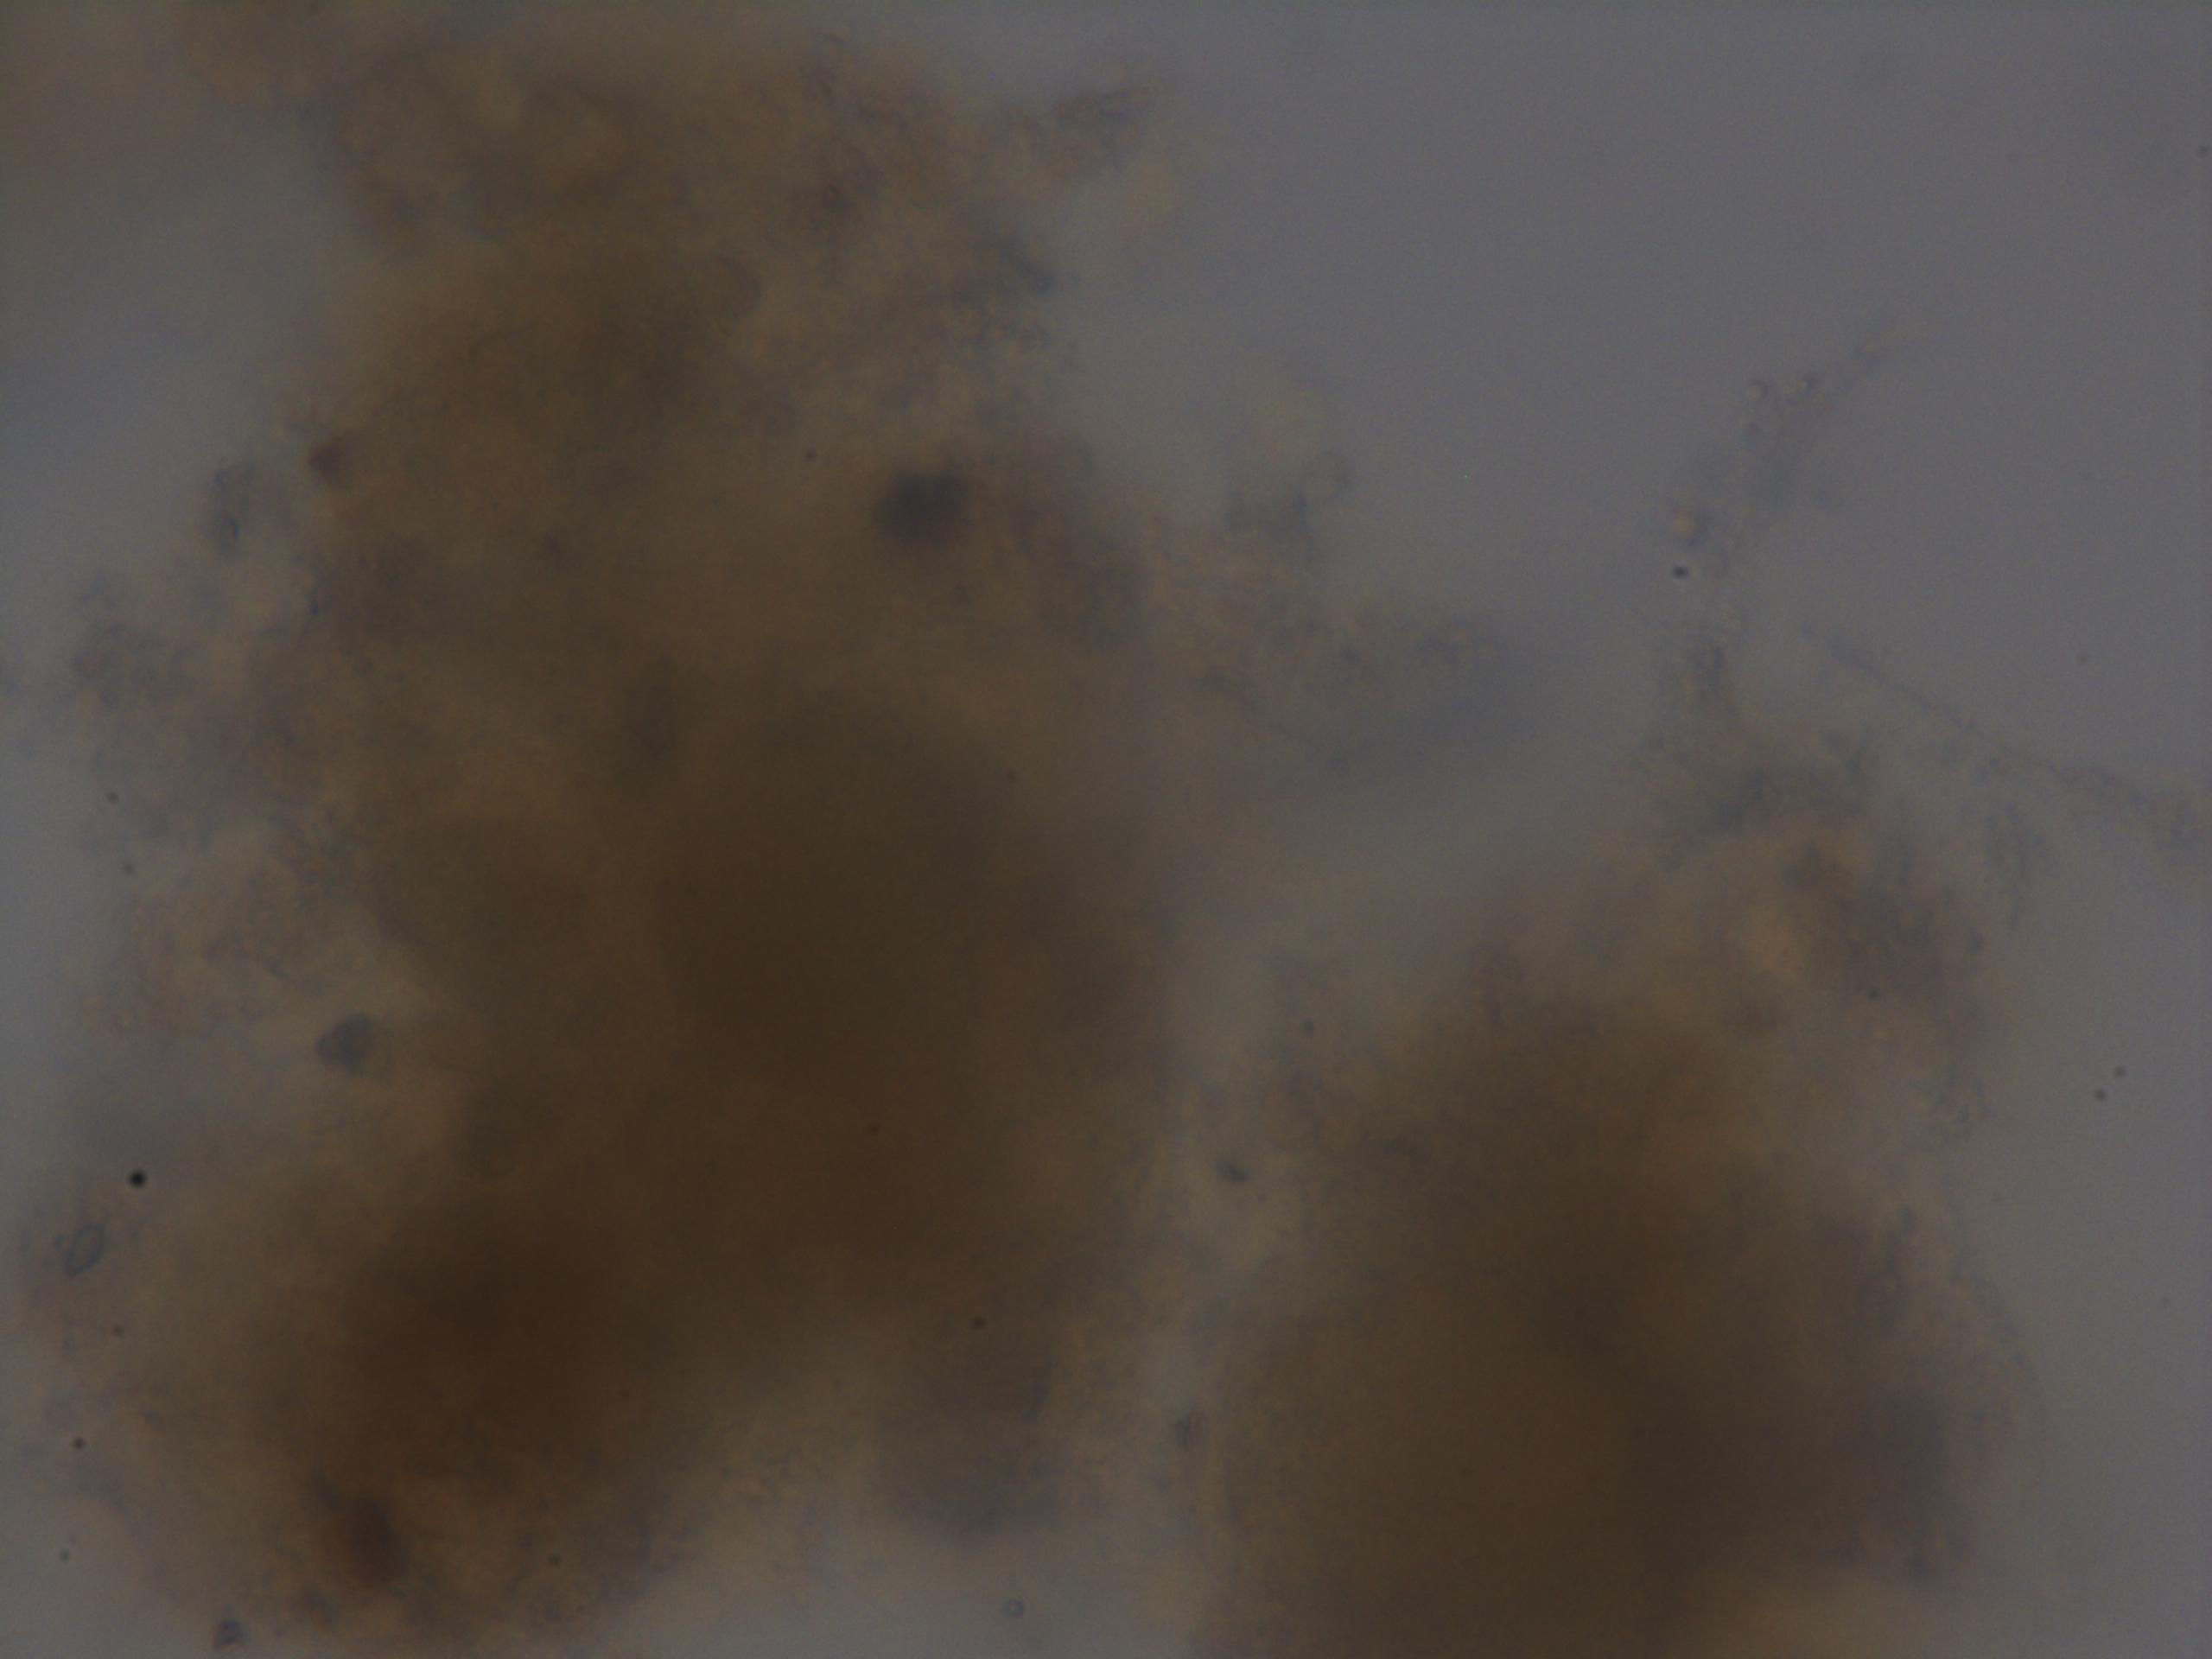spherical_floc: (172, 3, 1191, 1659), (1214, 969, 1968, 1659)
